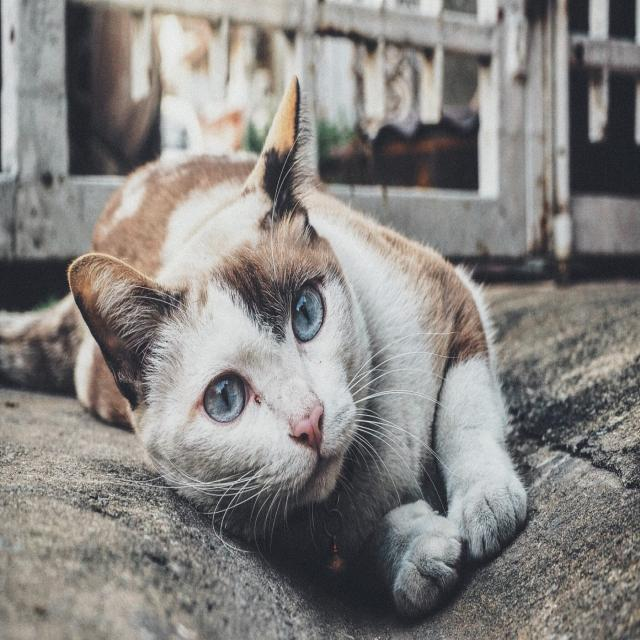cat: (0, 79, 526, 616)
